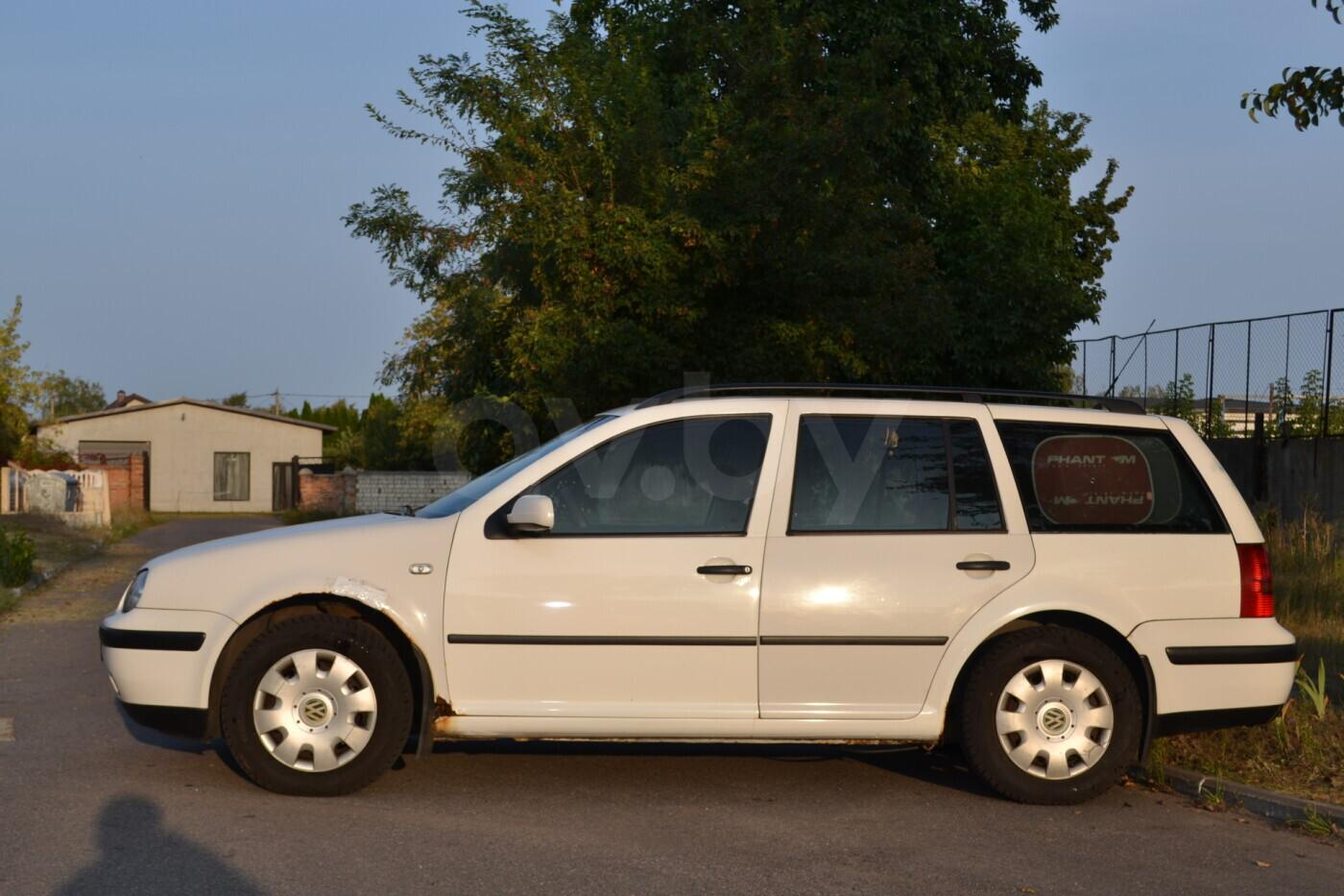Golf_1997-2006: (102, 389, 1311, 804)
